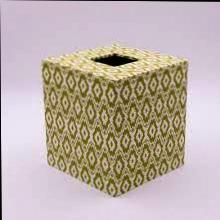cube: (40, 44, 187, 197)
